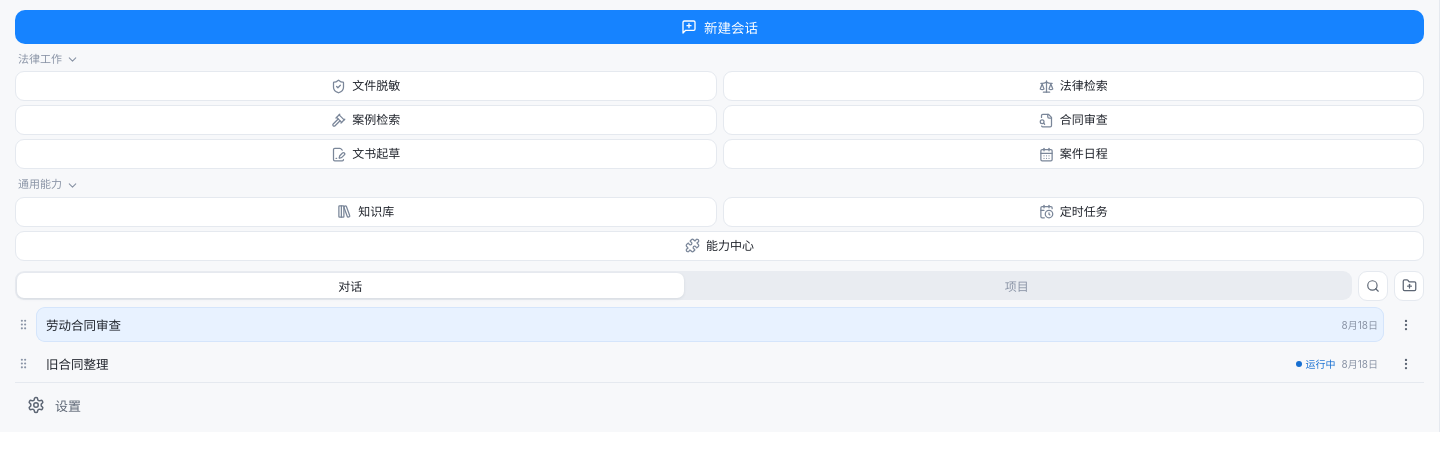
it: 项目滚动到可视区域之外时关闭菜单
The width and height of the screenshot is (1440, 449).
Step 1. Click the tab "项目" → (1017,286), box [684, 273, 1350, 298]
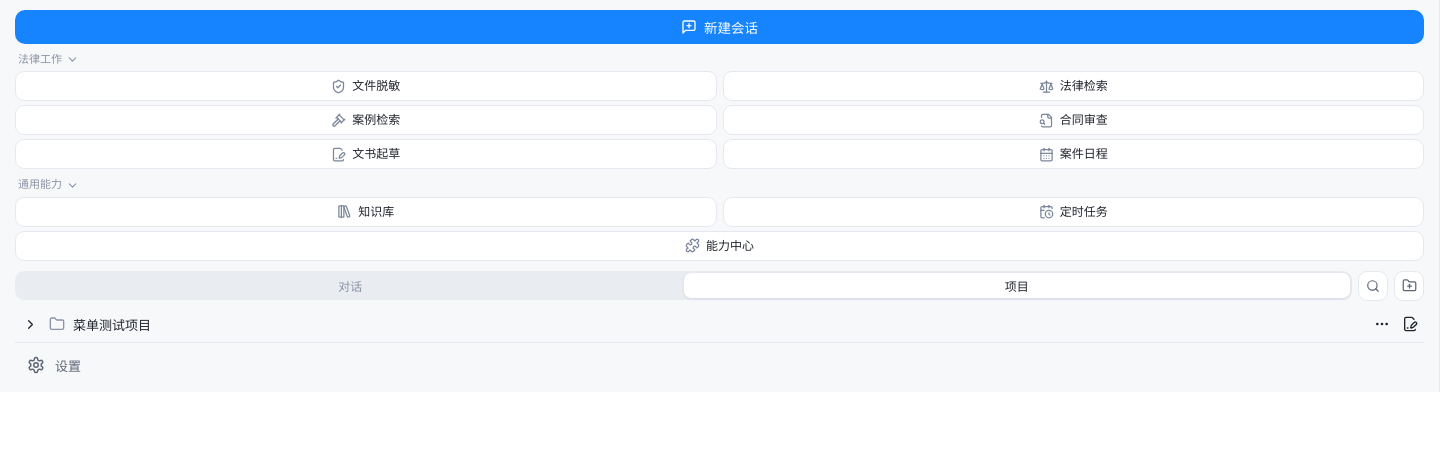
Step 2. Click the button named "项目菜单：菜单测试项目" → (1382,324), box [1368, 309, 1396, 339]
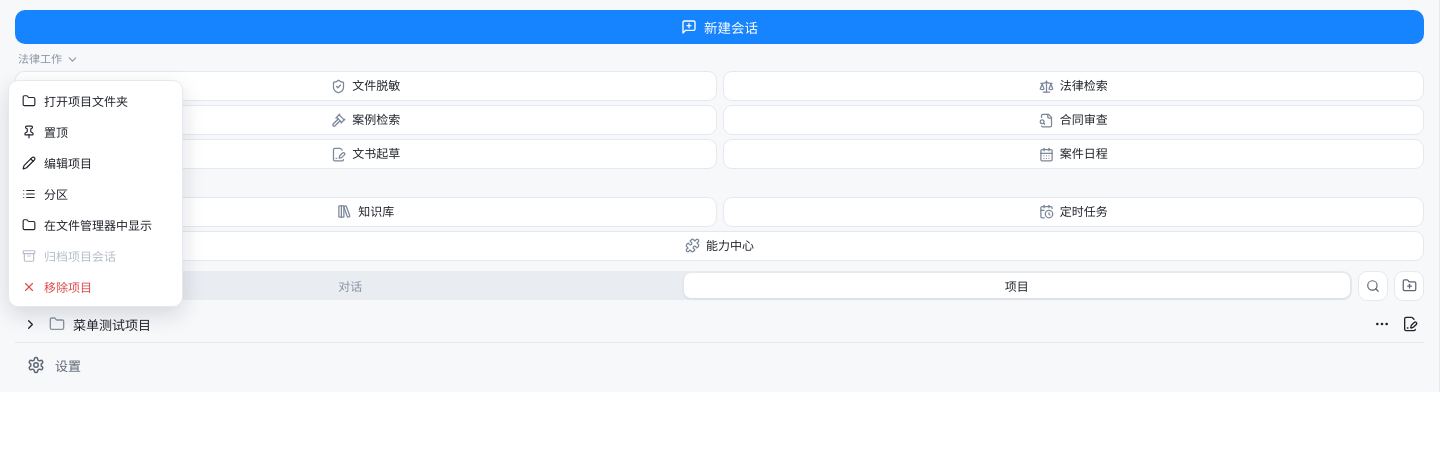
Result: the menu named "项目操作菜单" is shown at [8, 80, 183, 307]
